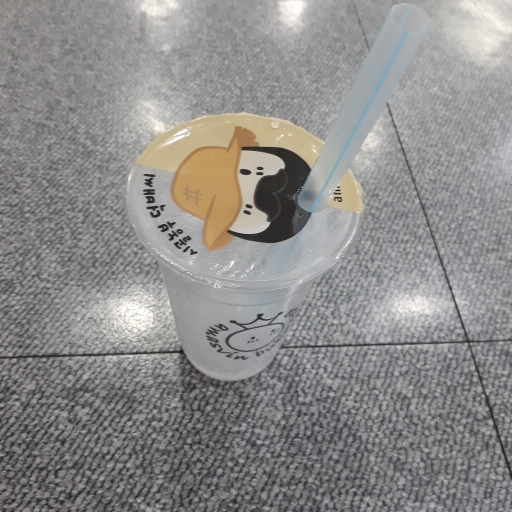Plastic_2: (123, 5, 430, 382)
